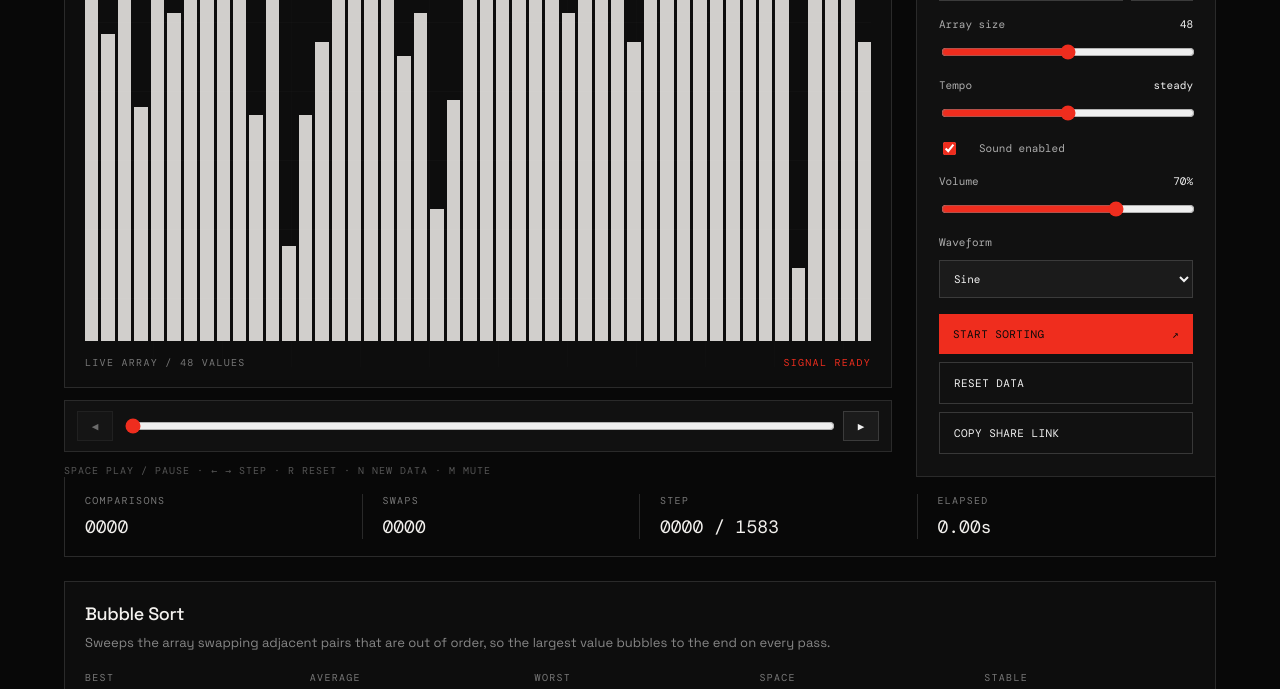
Test case: Sort With Sound controls › does not create a second run when start is clicked twice
This screenshot has width=1280, height=689.
(page scrolled)
Step 1. Click the button "Start sorting ↗" → (1066, 334), box [939,314,1193,354]
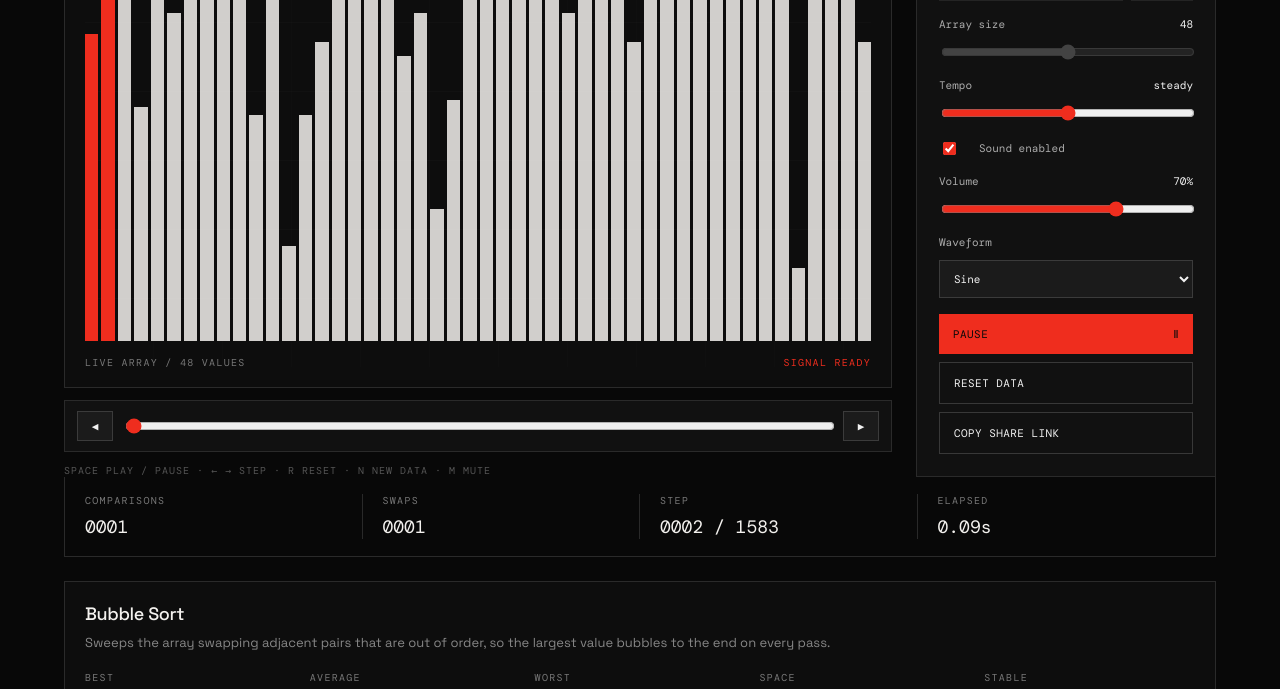
Step 2. Click the button with aria-label "pause sorting" → (1066, 334), box [939,314,1193,354]
(page scrolled)
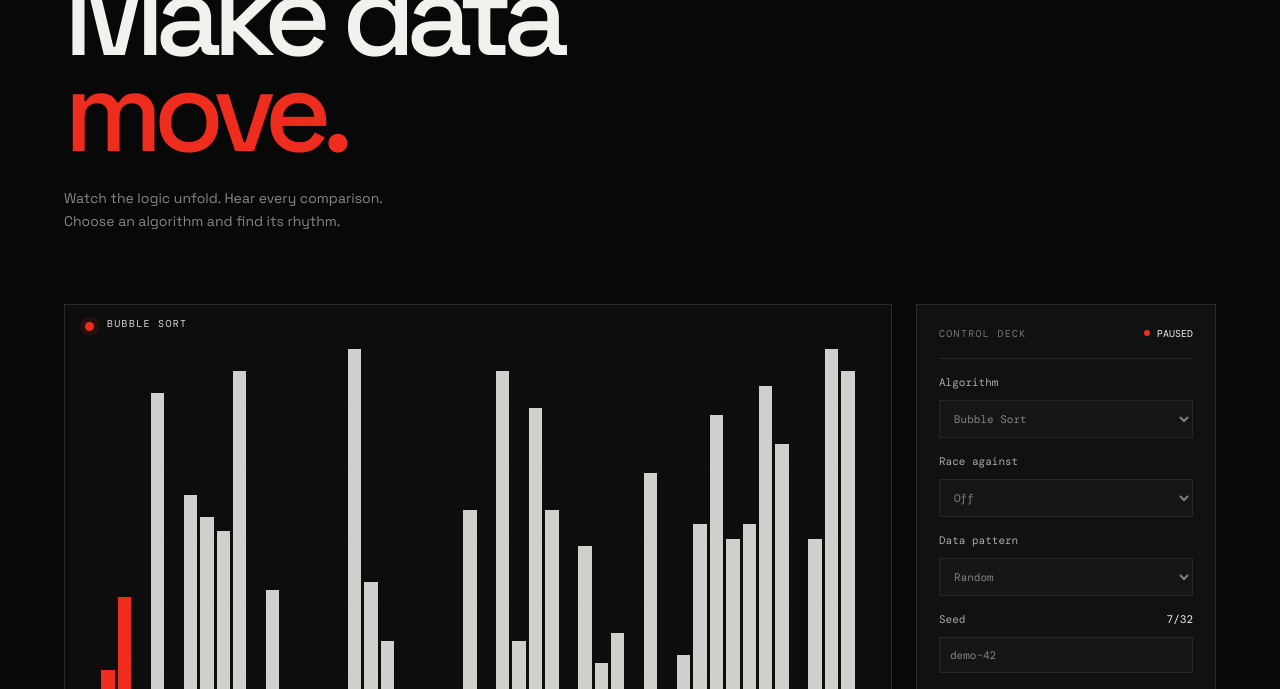
Expected: the message "paused" is shown, [1144,327,1193,340]
